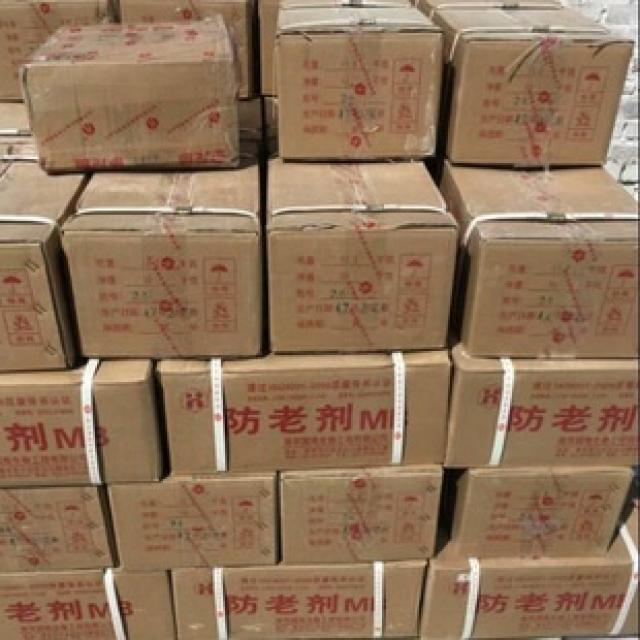box: (59, 100, 262, 358), (261, 98, 458, 355), (422, 160, 638, 359), (416, 0, 636, 169), (158, 352, 453, 478), (420, 475, 638, 638), (19, 18, 239, 175), (274, 1, 445, 159), (445, 335, 638, 469), (0, 105, 91, 370), (0, 359, 171, 489), (168, 561, 428, 637), (107, 468, 277, 571), (444, 470, 636, 559), (277, 468, 443, 563), (116, 1, 256, 100), (0, 1, 115, 103), (0, 571, 176, 636), (0, 485, 117, 574)
